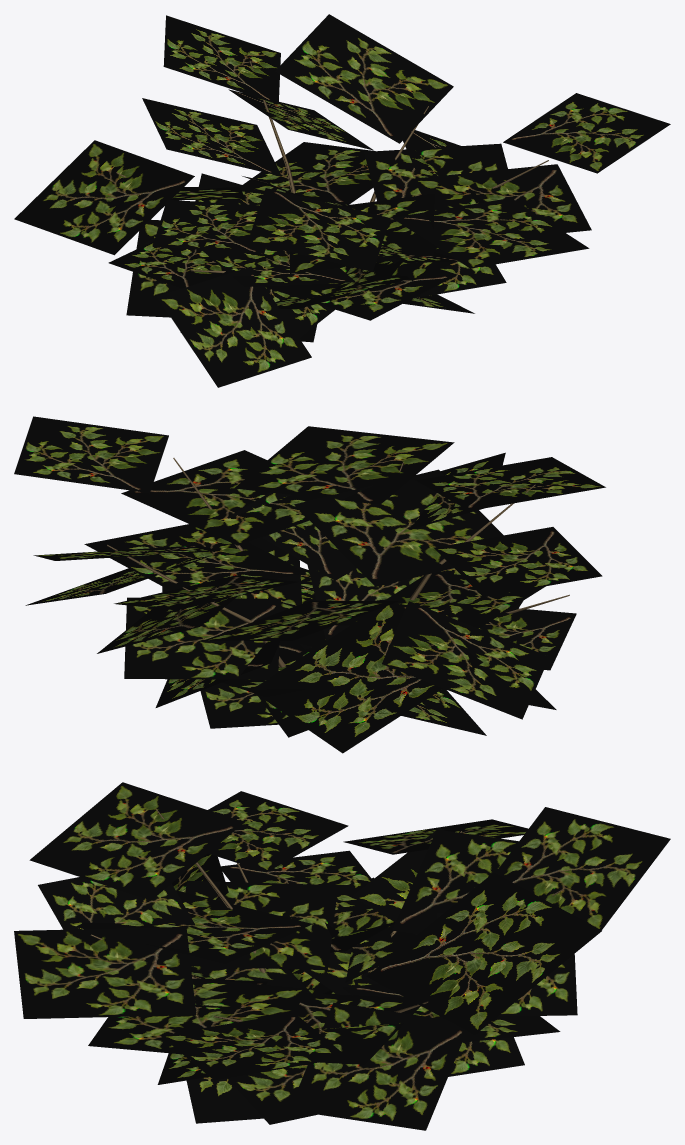
Rendered from low_scrub_mid.gltf.
The picture shows the model from 3 angles, top to bottom: view 1: azimuth 30°, elevation 25°; view 2: azimuth 150°, elevation 25°; view 3: azimuth 270°, elevation 25°; orthographic projection. The views are drawn at different scales.
Visible parts, largest first — view 1: low_scrub_mid; view 2: low_scrub_mid; view 3: low_scrub_mid.
Part boxes in pixels (<box>): low_scrub_mid: <box>14,14,670,387</box>; low_scrub_mid: <box>14,416,605,753</box>; low_scrub_mid: <box>14,782,670,1130</box>.
Bounding box in the file's own units: 2.55 × 0.8189 × 2.22.
Materials: 2 (1 with a texture image).
